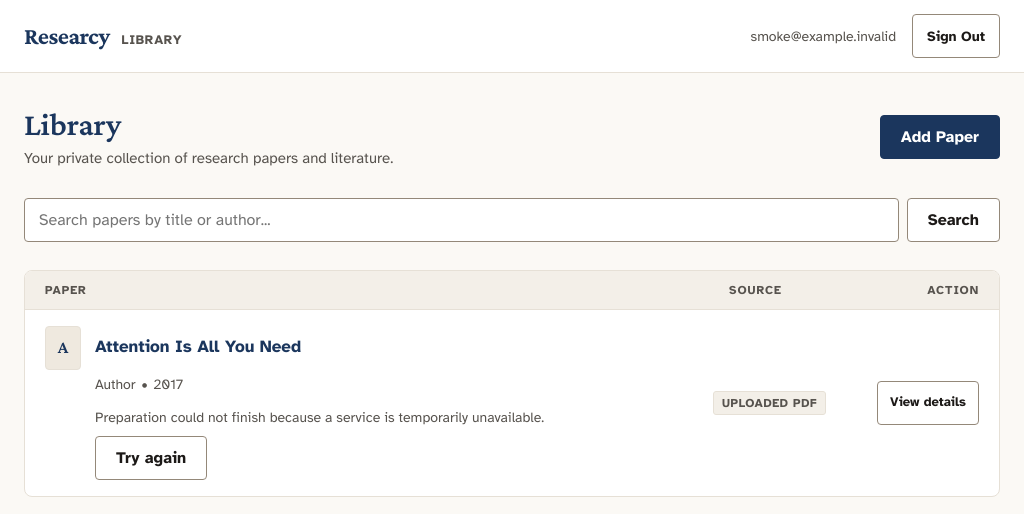
it: keeps retry copy honest when sign-out disables a failure without sending a retry
The image size is (1024, 514).
Click the button "Sign Out".
click(956, 36)  # box [912, 14, 1000, 58]
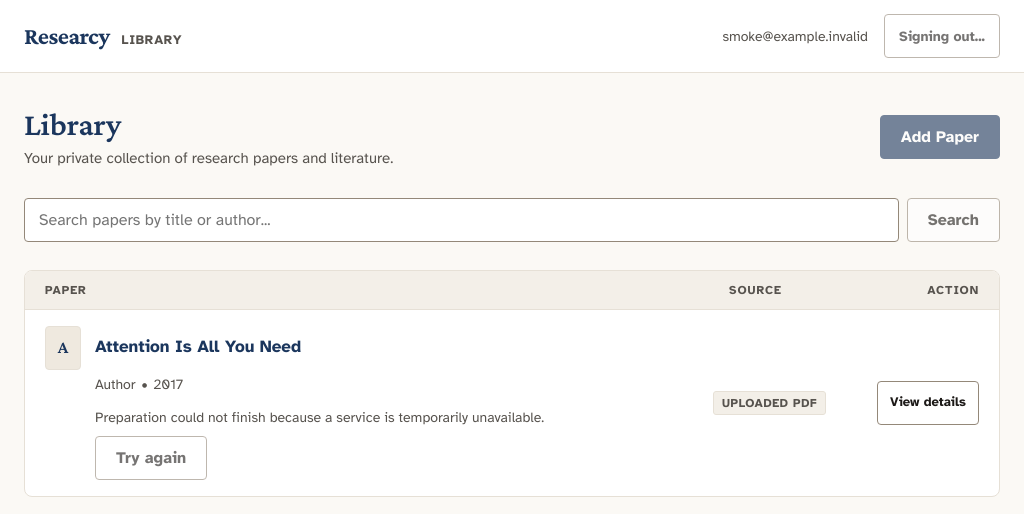
Expected: the button "Try again" is shown, [95, 436, 207, 480]
Expected: the button "Try again" is disabled, [95, 436, 207, 480]
